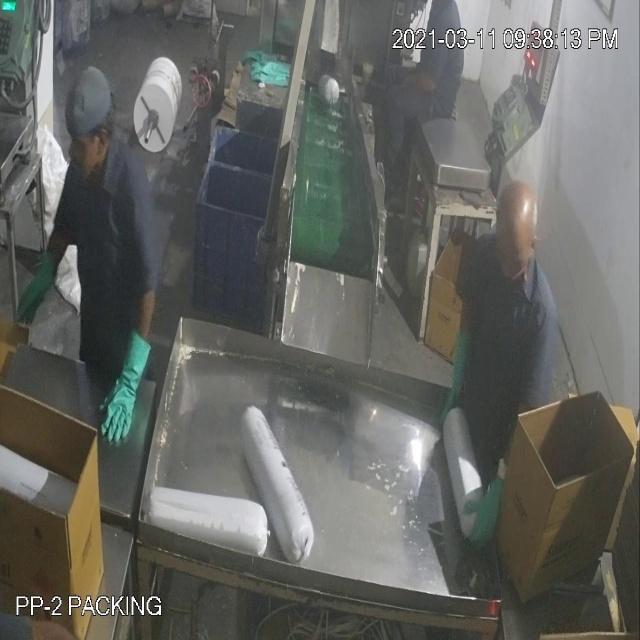Guantes: (96, 315, 152, 459), (457, 452, 505, 564), (14, 239, 59, 348), (440, 324, 479, 436)
Sin_guantes: (393, 60, 437, 110)
